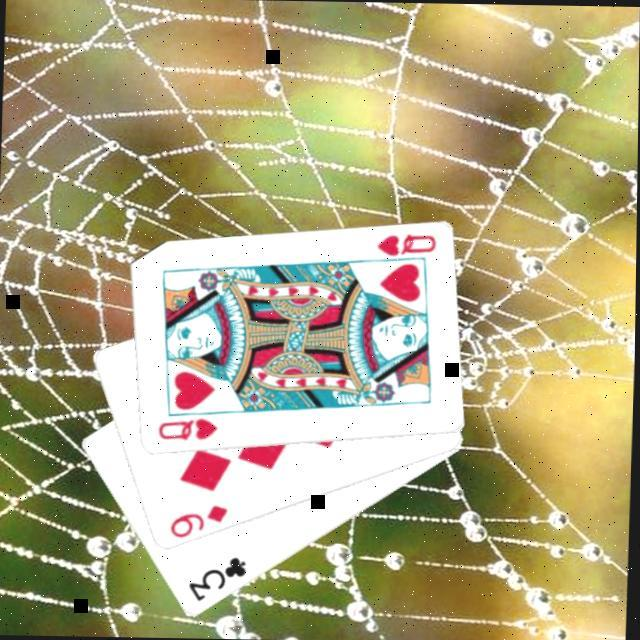3C: (187, 550, 253, 604)
9D: (169, 498, 234, 540)
QH: (368, 228, 442, 264), (157, 412, 223, 442)
